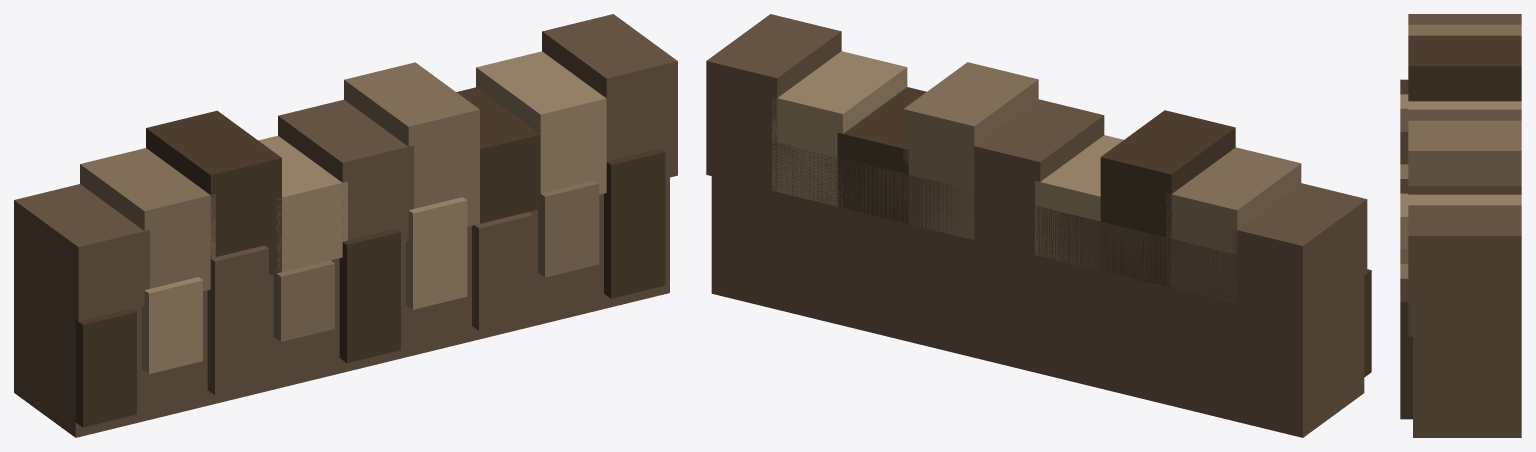
Rendered from CMU3DPlatformKutjevoRock.glb.
The picture shows the model from 3 angles, left to right: view 1: azimuth 30°, elevation 25°; view 2: azimuth 150°, elevation 25°; view 3: azimuth 270°, elevation 25°; orthographic projection. The views are drawn at different scales.
Parts seen in each view (by area): view 1: broken rock crown (×9), fractured rock face (×9), rock edge core; view 2: rock edge core, broken rock crown (×9), fractured rock face; view 3: broken rock crown (×9), rock edge core, fractured rock face (×4).
Part boxes in pixels (left/top/right/bottom): broken rock crown (×9): left=14, top=14, right=677, bottom=321; fractured rock face (×9): left=75, top=148, right=665, bottom=427; rock edge core: left=14, top=177, right=669, bottom=437; rock edge core: left=711, top=127, right=1364, bottom=437; broken rock crown (×9): left=706, top=14, right=1367, bottom=319; fractured rock face: left=1364, top=269, right=1371, bottom=377; broken rock crown (×9): left=1408, top=14, right=1521, bottom=336; rock edge core: left=1413, top=336, right=1521, bottom=437; fractured rock face (×4): left=1400, top=79, right=1412, bottom=419.
Size of the model in its own units: 1.01 by 0.374 by 0.201.
